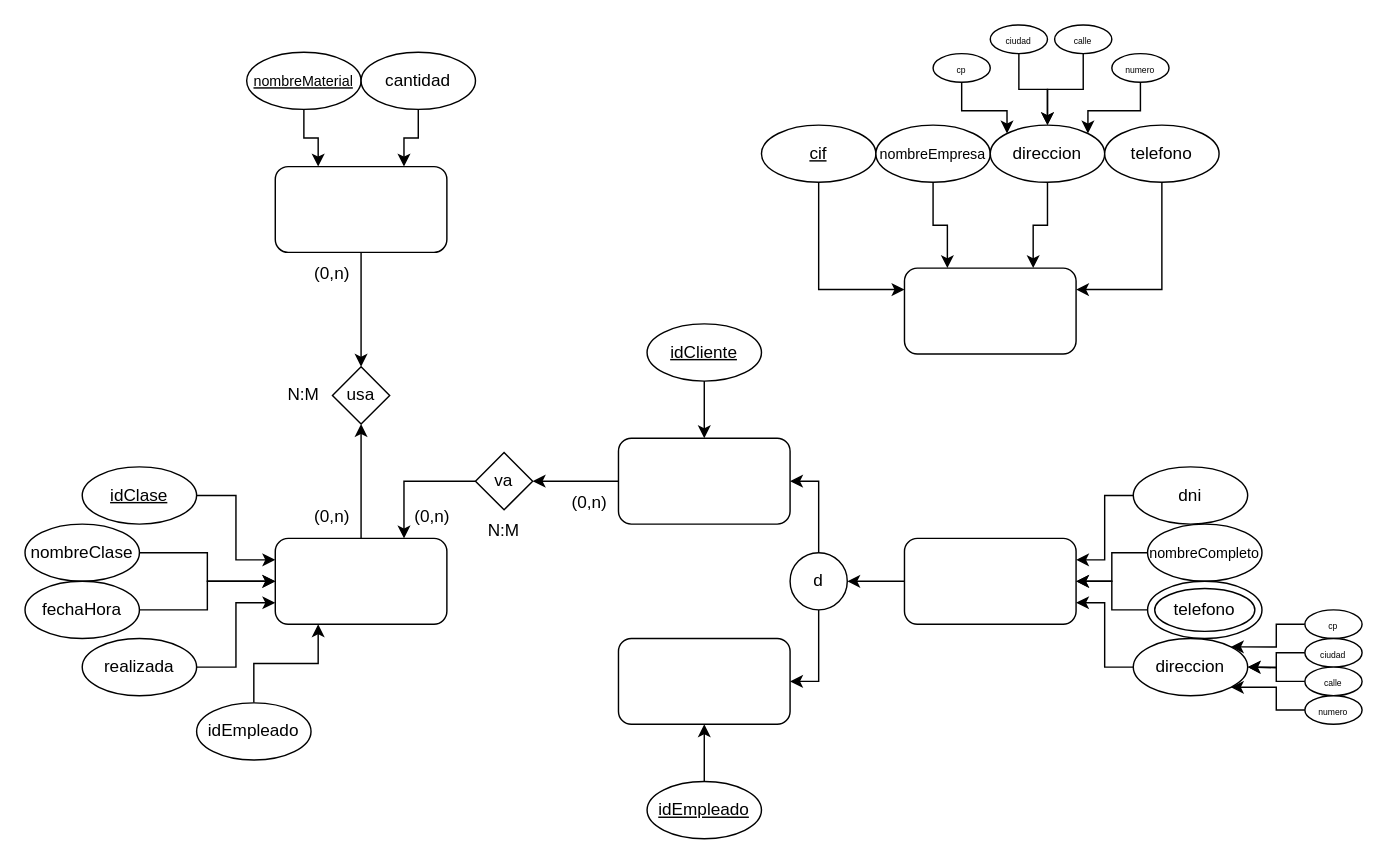
Image size: 1387x864. Some labels were removed from this diagram. Here are the shapes that lost their labels. From the top down, the centre of each, then its label:
At (x=360, y=208): "Material".
At (x=989, y=310): "Información general".
At (x=703, y=480): "Cliente".
At (x=360, y=580): "Clase".
At (x=989, y=580): "Personas".
At (x=703, y=680): "Empleado".
